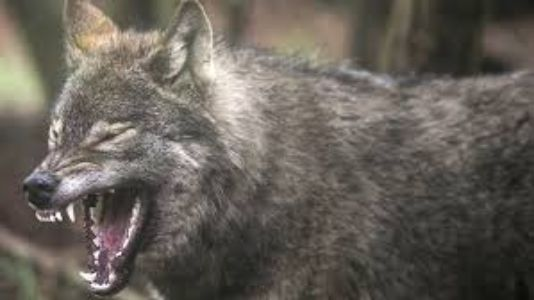wolf: (25, 4, 526, 290)
